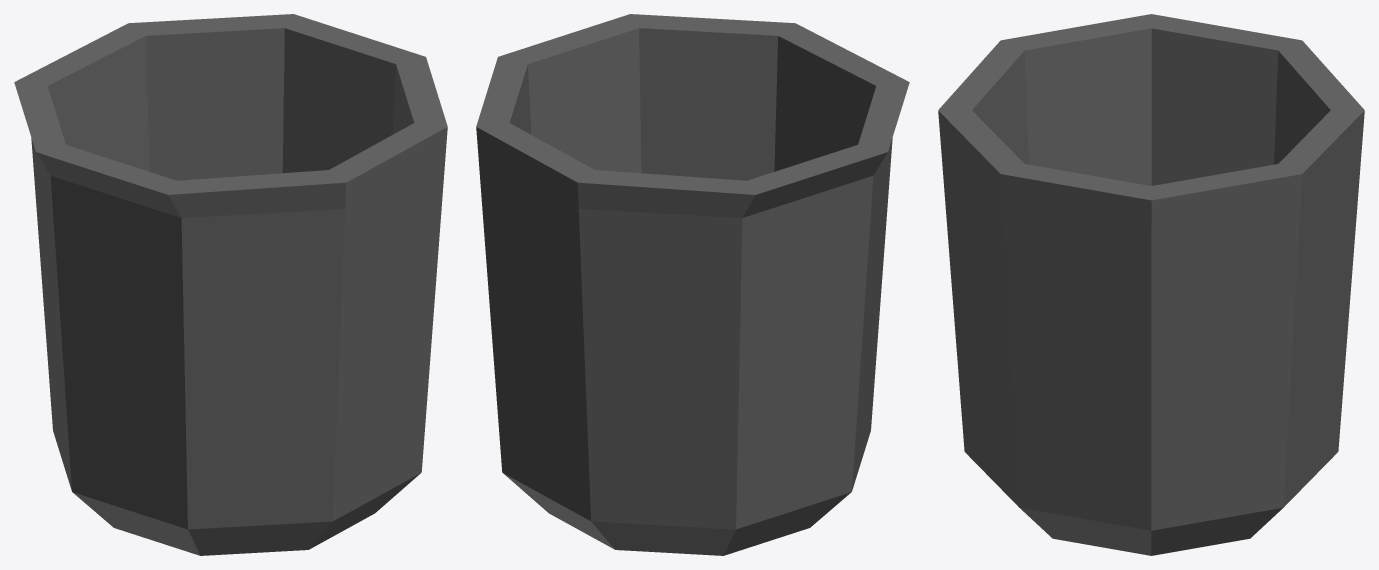
The model's file is Assets.fbx_Crucible.fbx.
3 renders of one model, left to right at view 1: azimuth 30°, elevation 25°; view 2: azimuth 150°, elevation 25°; view 3: azimuth 270°, elevation 25°, orthographic. The views are drawn at different scales.
Visible parts, largest first — view 1: Crucible; view 2: Crucible; view 3: Crucible.
Part boxes in pixels (x1,y1,x2,y2): Crucible: (14,14,447,555); Crucible: (476,14,909,555); Crucible: (938,14,1364,555).
Bounding box in the file's own units: 26.24 × 25.38 × 25.38.
